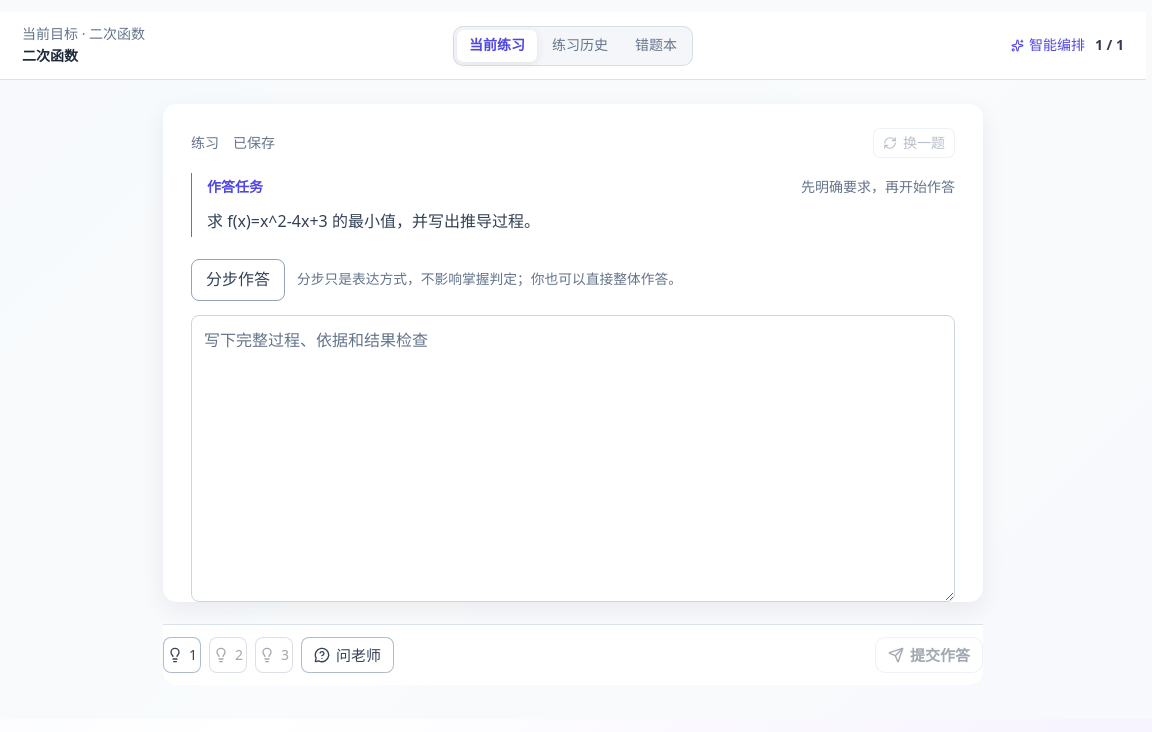
it: PracticeWorkspace 逐步判定展示 (J3) › 分步提交后展示逐步判定，并指出推导从第几步断的
Type "先配方，再读顶点" into the text box with class "answer-editor" at (573, 459), box [191,315,955,602]
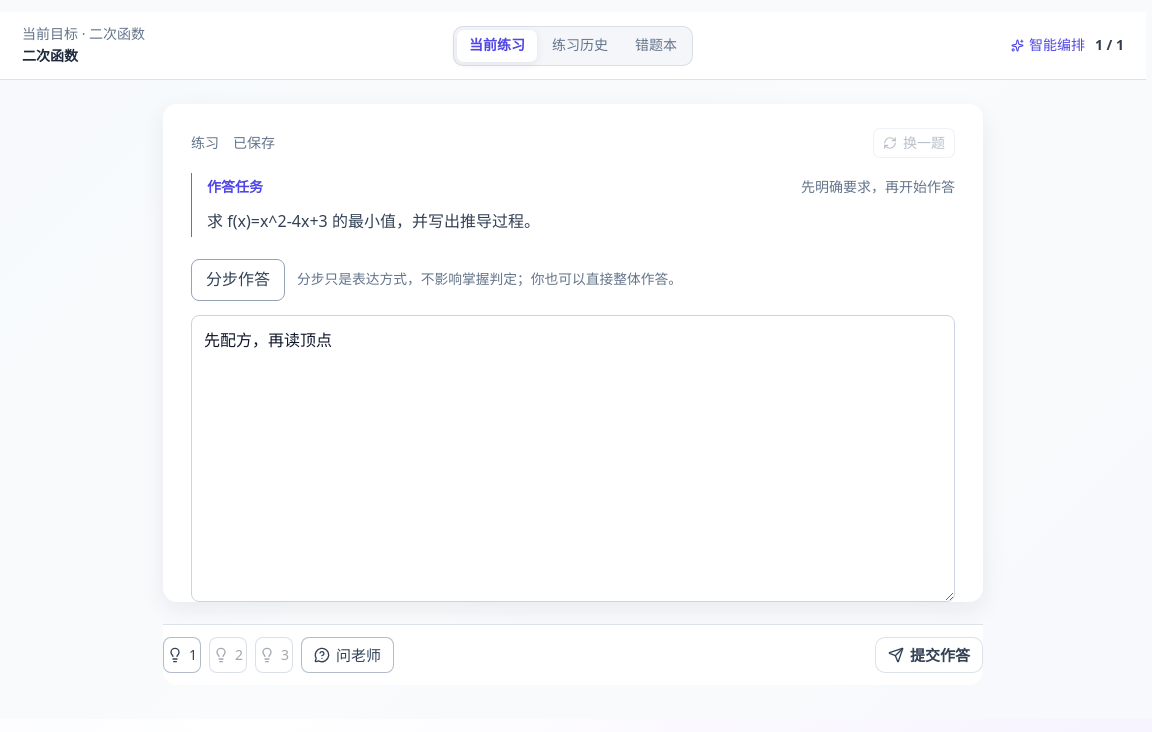
Click the button "提交作答" at (929, 656), box [875,638,983,674]
(page scrolled)
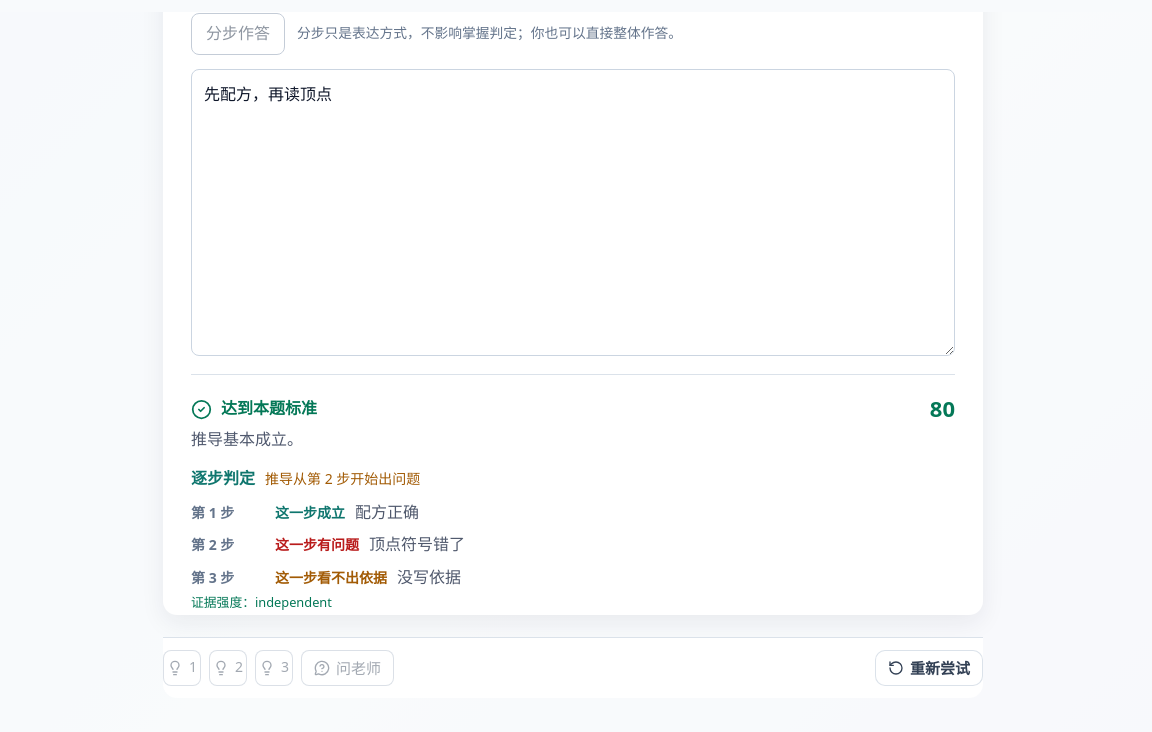
Expected: the element with test id "stepwise-judgement" shows "第 2 步", [191,535,234,554]
Expected: the element with test id "stepwise-judgement" shows "这一步有问题", [275,535,359,554]
Expected: the element with test id "stepwise-judgement" shows "顶点符号错了", [369,533,465,555]
